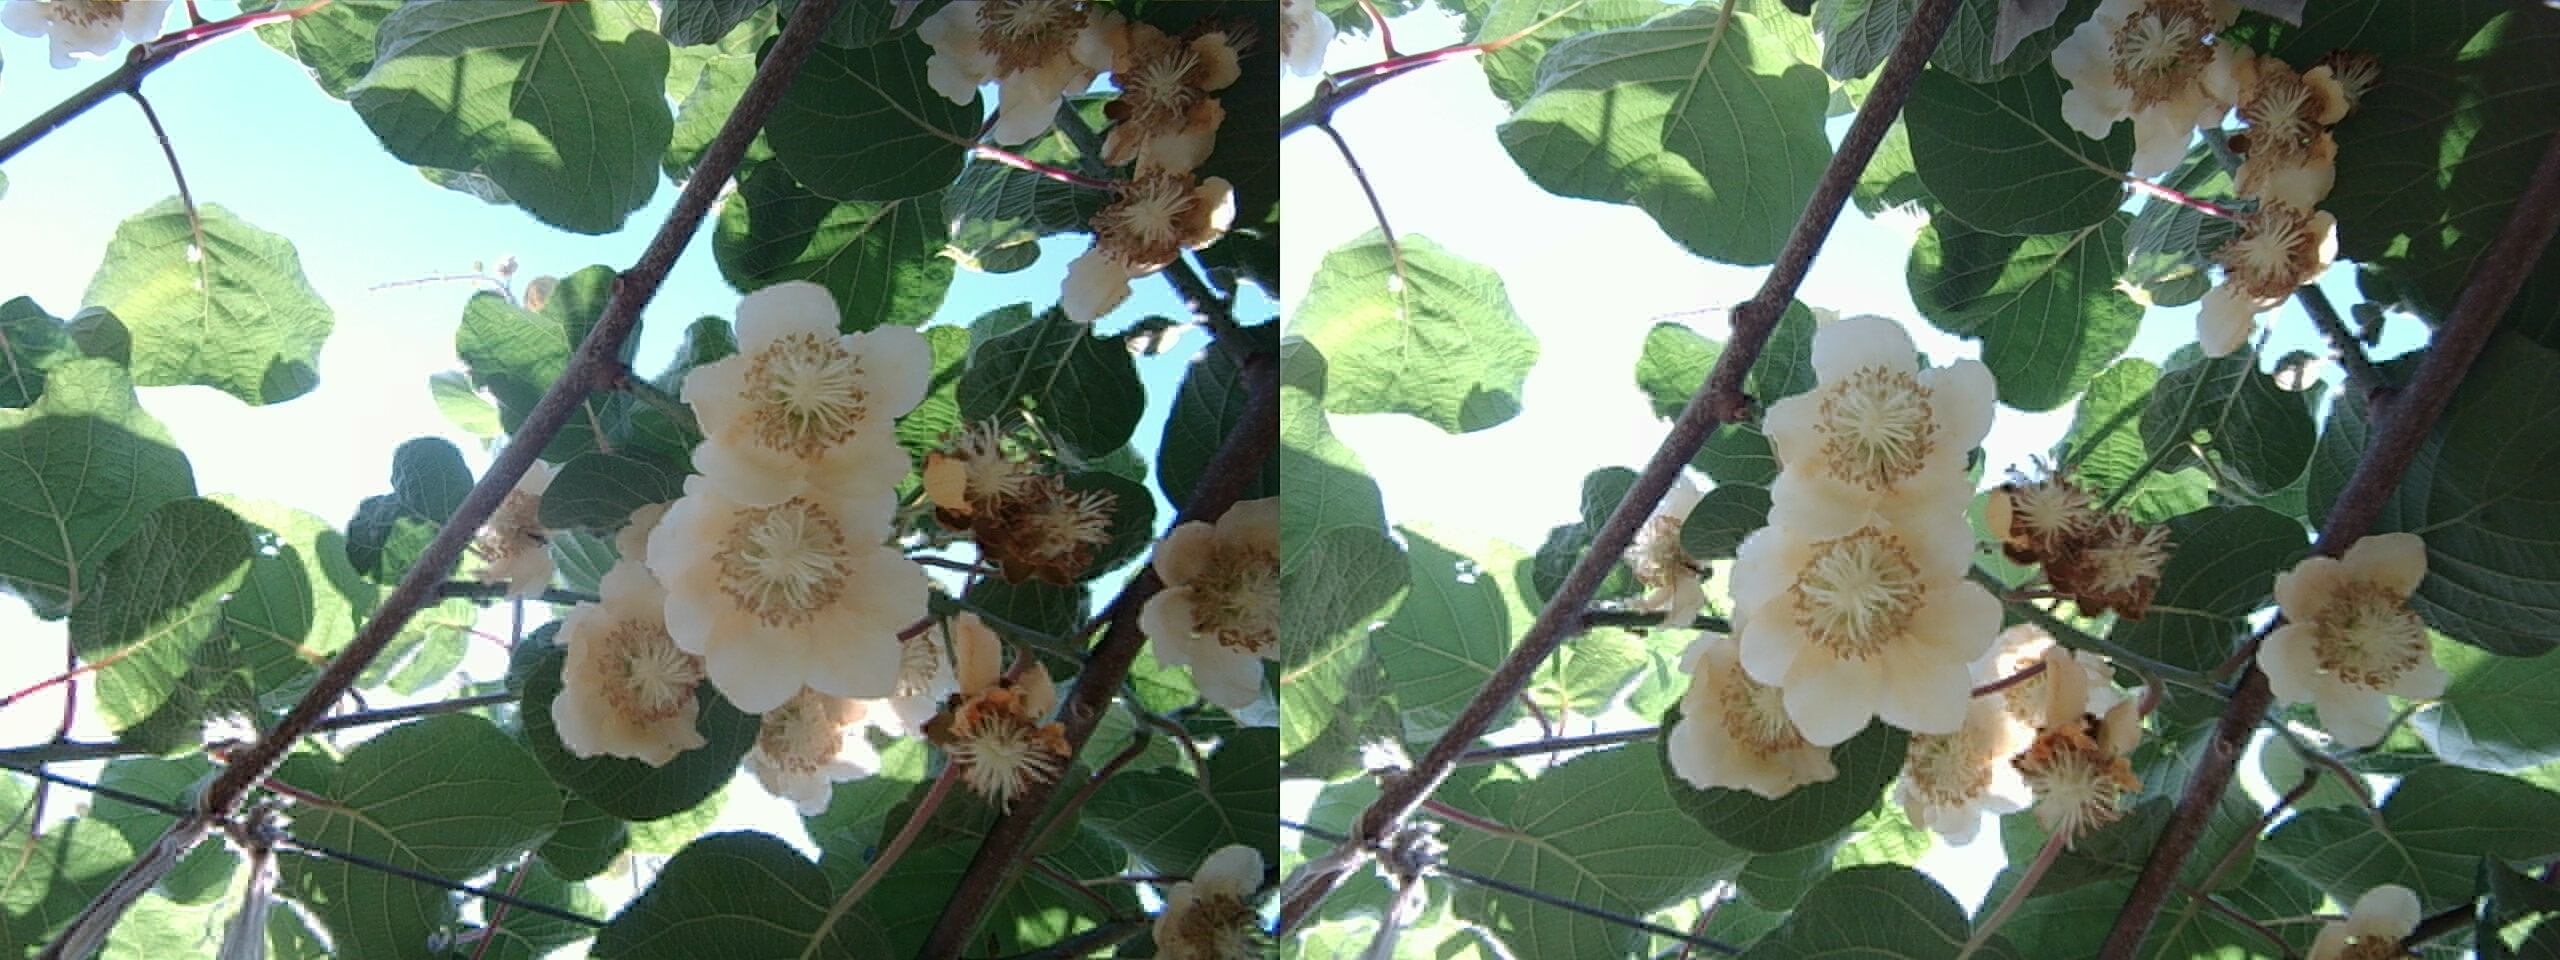flower: (629, 454, 937, 709), (1718, 487, 2005, 733), (1868, 638, 2157, 859), (1749, 309, 2003, 544), (684, 274, 940, 503), (2175, 39, 2384, 313), (532, 573, 743, 795), (2250, 522, 2452, 753), (901, 420, 1167, 593), (1966, 438, 2186, 630), (2054, 0, 2261, 167), (1660, 637, 1843, 820), (901, 638, 1086, 815), (1135, 501, 1288, 702), (914, 0, 1131, 131), (1089, 18, 1251, 170)
